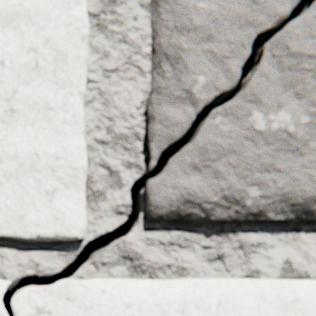brick: (0, 0, 88, 241)
broken_brick: (145, 1, 315, 221), (146, 0, 299, 170), (11, 279, 315, 315), (0, 281, 14, 315)
crack: (2, 0, 315, 315)
